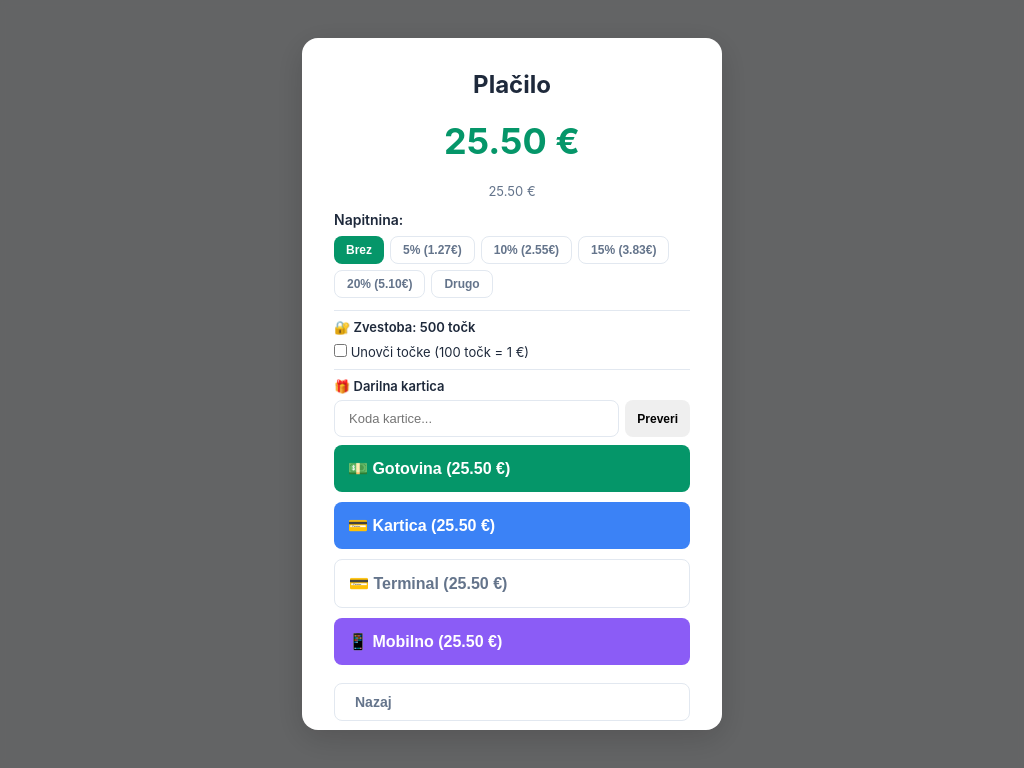
it: PaymentDialog › shows loyalty points max info when toggled
Click the text "Unovči točke (100 točk = 1 €)" at (432,352), box x1=334 y1=344 x2=529 y2=360
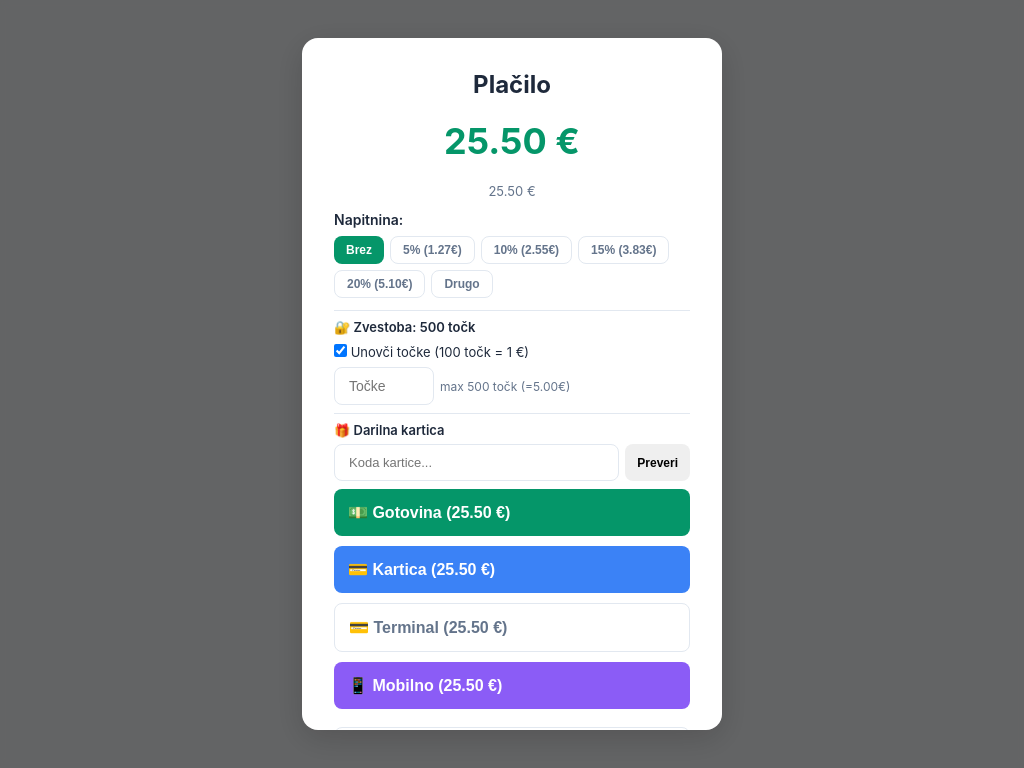
Result: the text "max 500 točk (=5.00€)" is shown at x1=440 y1=379 x2=570 y2=394
